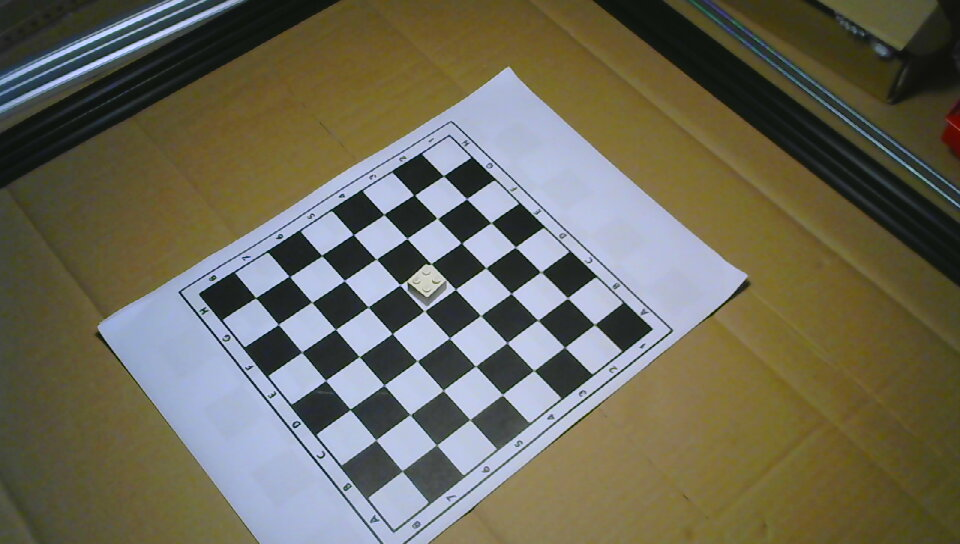wp: (408, 263, 447, 306)
